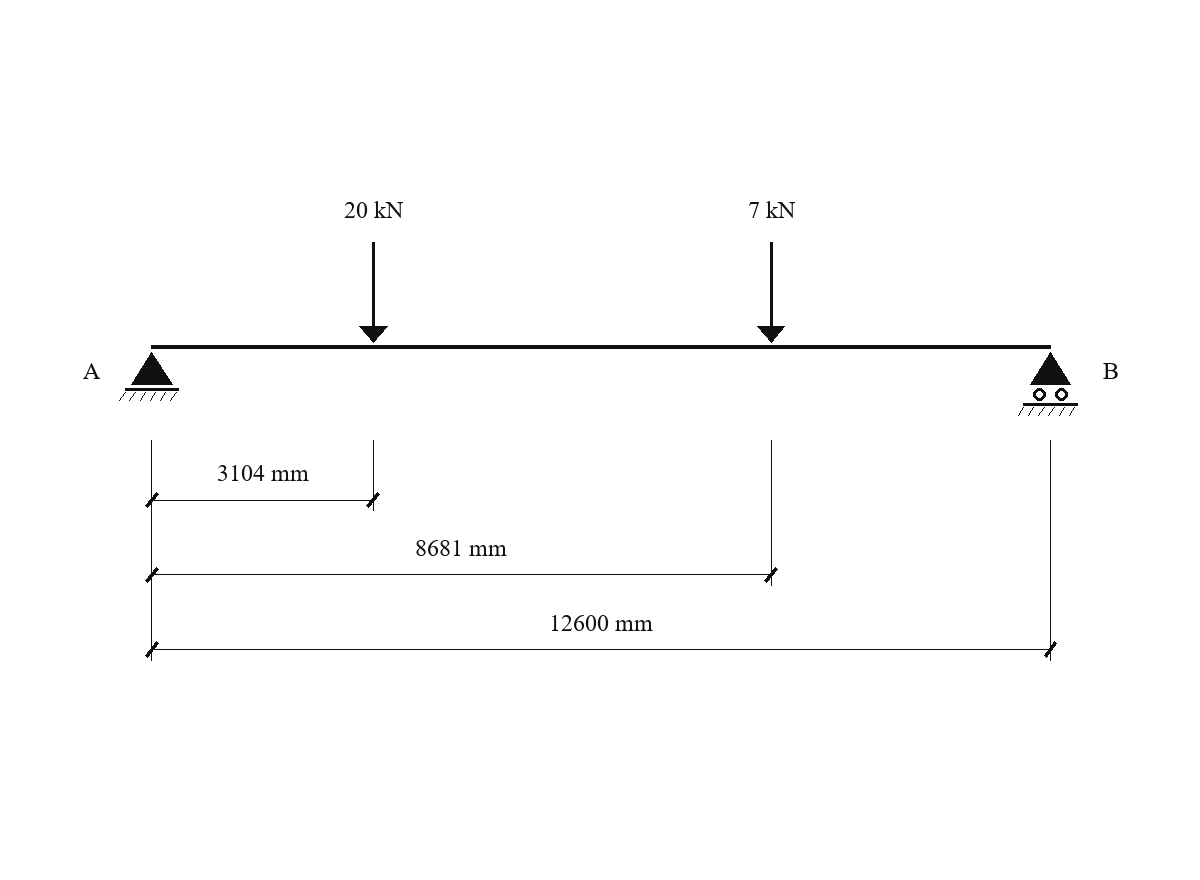pin_support: (119, 352, 179, 401)
point_load: (359, 242, 388, 343), (757, 242, 785, 343)
roller_support: (1018, 352, 1078, 416)
